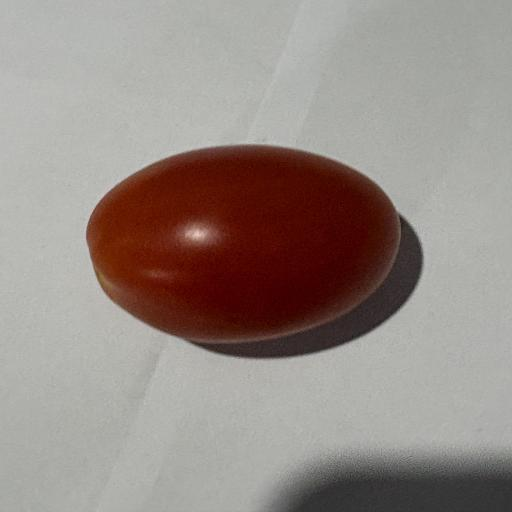ripe: (87, 145, 401, 343)
